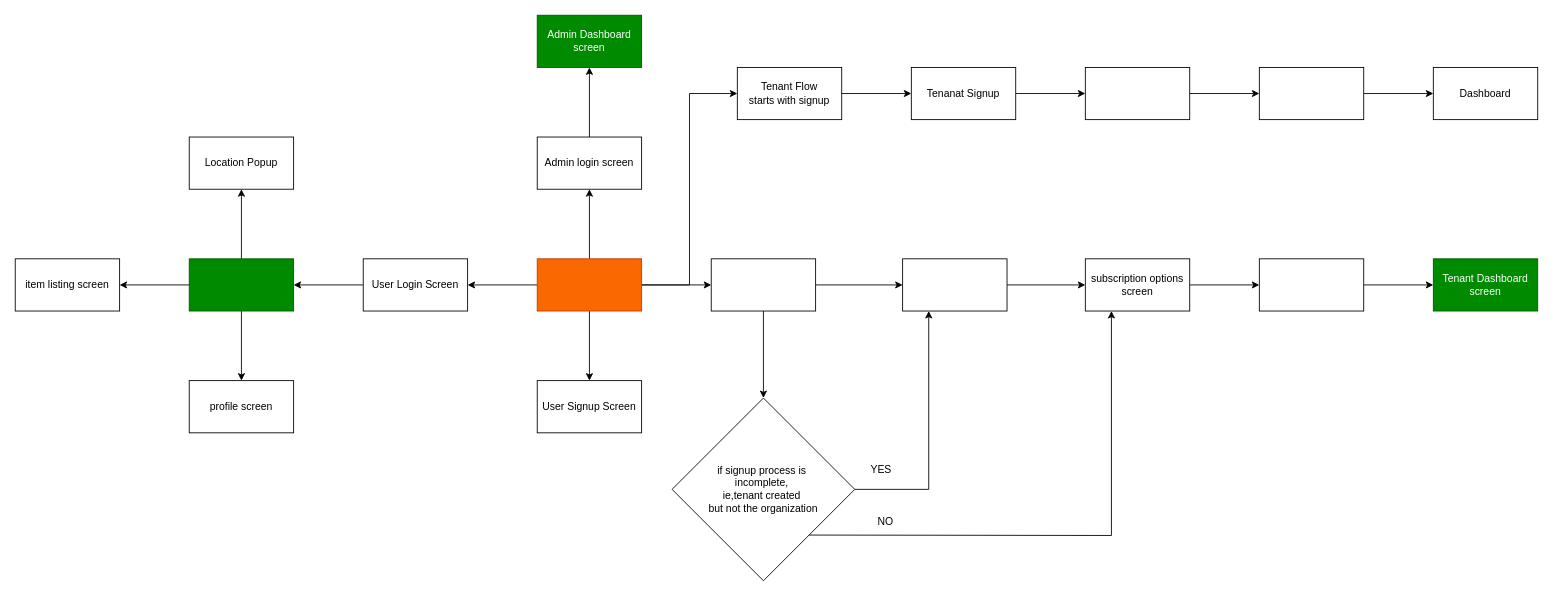
This 1553x596 diagram has some shape labels left out. Here are the shapes that lost their labels. From the top down, the centre of each, then its label:
At point 1137,93: "Choose a subscription".
At point 1311,93: "Payment".
At point 241,284: "Search screen".
At point 589,284: "Home screen".
At point 763,284: "Tenant Signup screen".
At point 954,284: "create organization screen".
At point 1311,284: "Payment screen".
